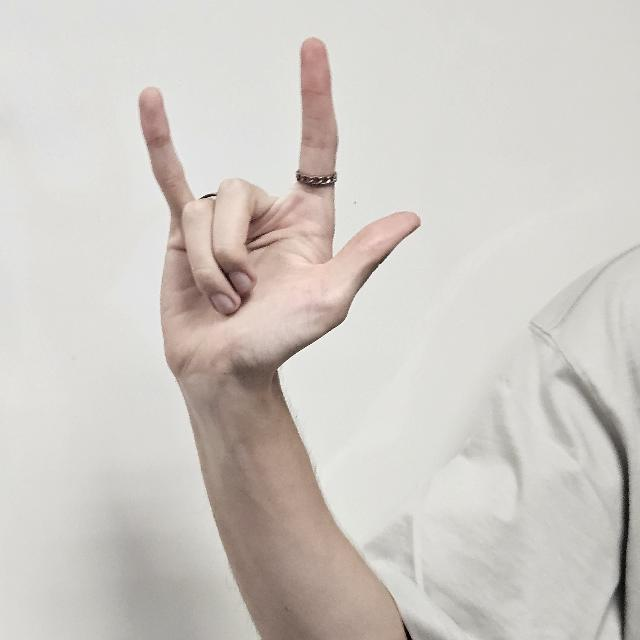Cima: (132, 35, 418, 399)
